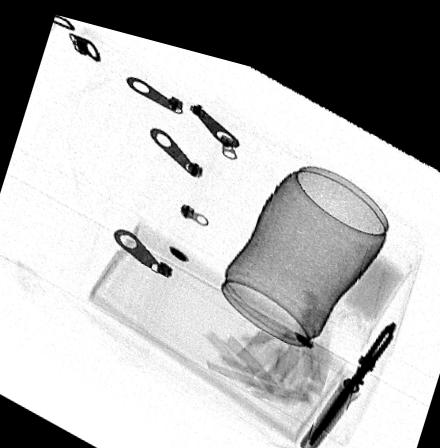Pliers: (303, 299, 395, 432)
